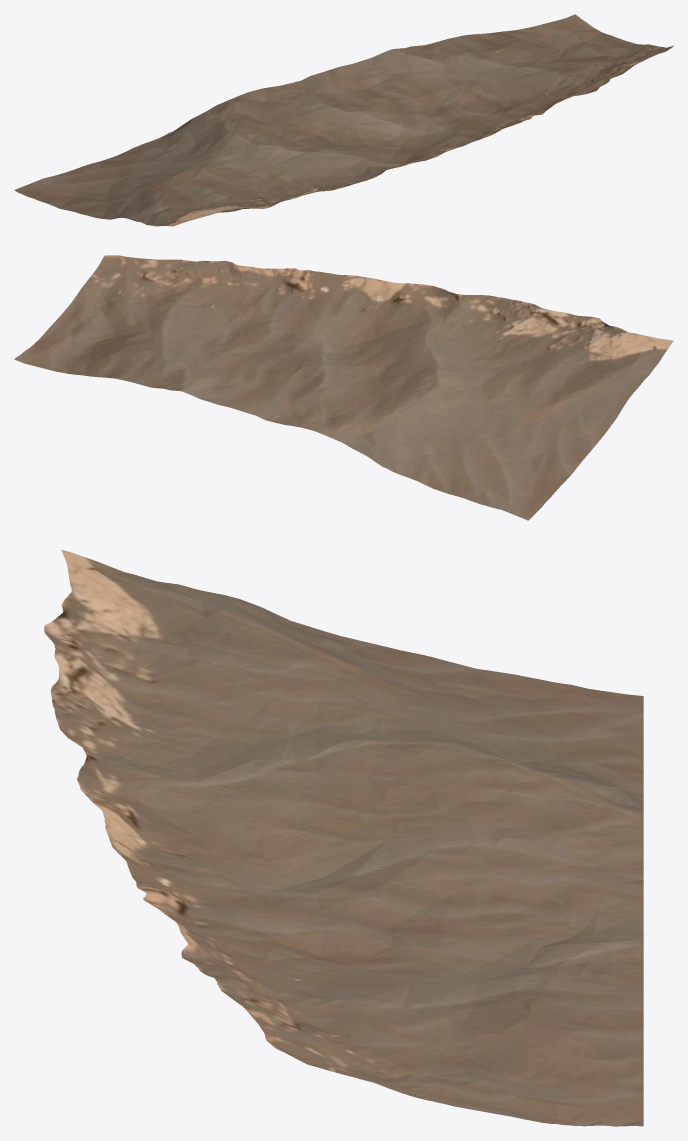
3 views of the same model, one above another, from view 1: azimuth 30°, elevation 25°; view 2: azimuth 150°, elevation 25°; view 3: azimuth 270°, elevation 25° (orthographic). The views are drawn at different scales.
Bounding box in the file's own units: 1.04 × 0.1424 × 0.5272.
1 material, 1 textured.
